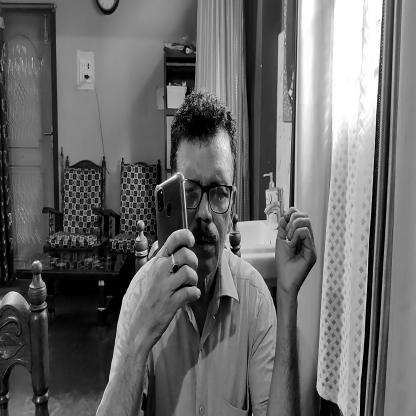Normal: (185, 100, 242, 273)
